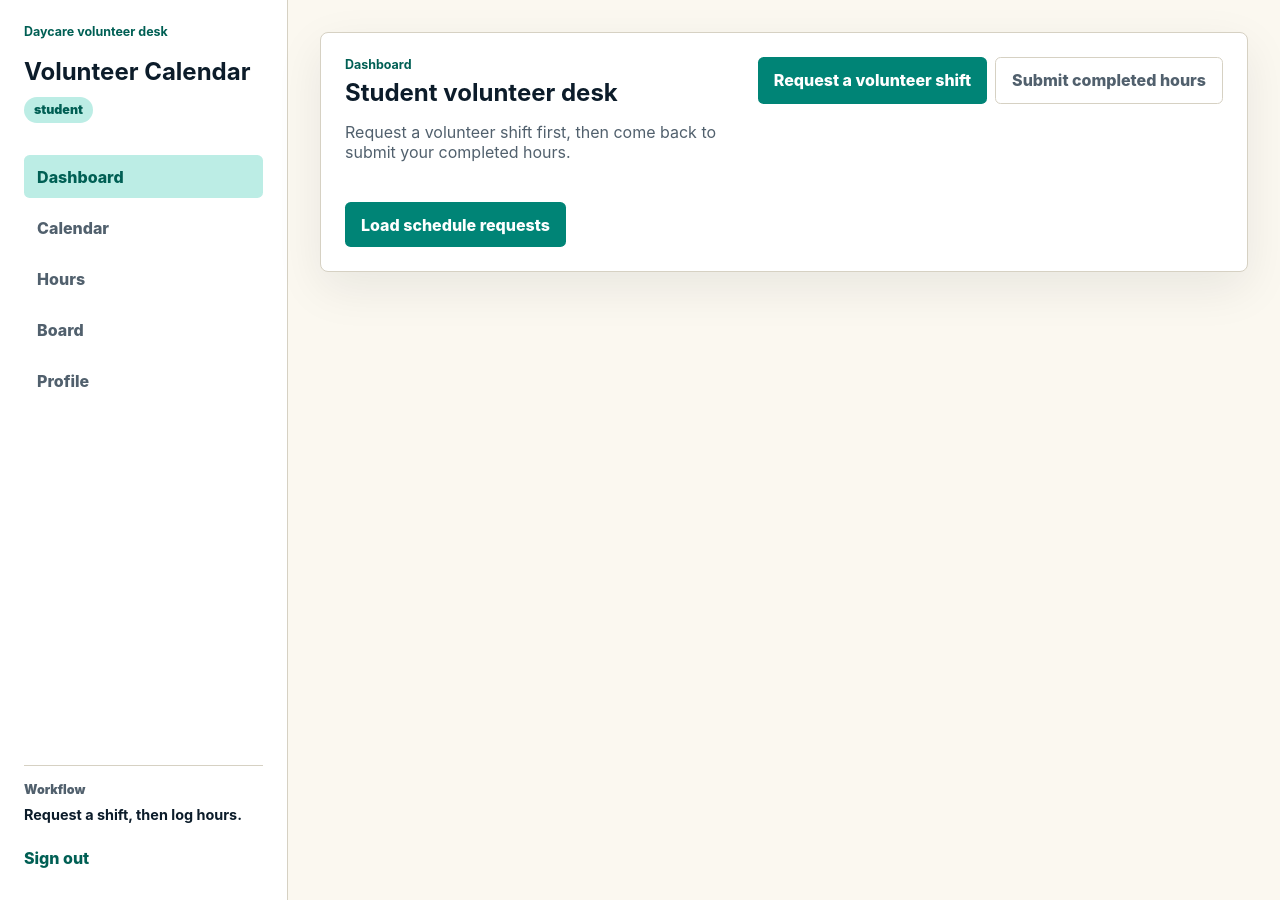
Test case: App › offers student workflow shortcuts from the dashboard
Expected: the heading "Student volunteer desk" is shown, [345,78,618,107]
What coordinates should you click on to do the following:
click the button "Request a volunteer shift"
I would click on:
 (872, 80)
Its box is [758,57,987,104].
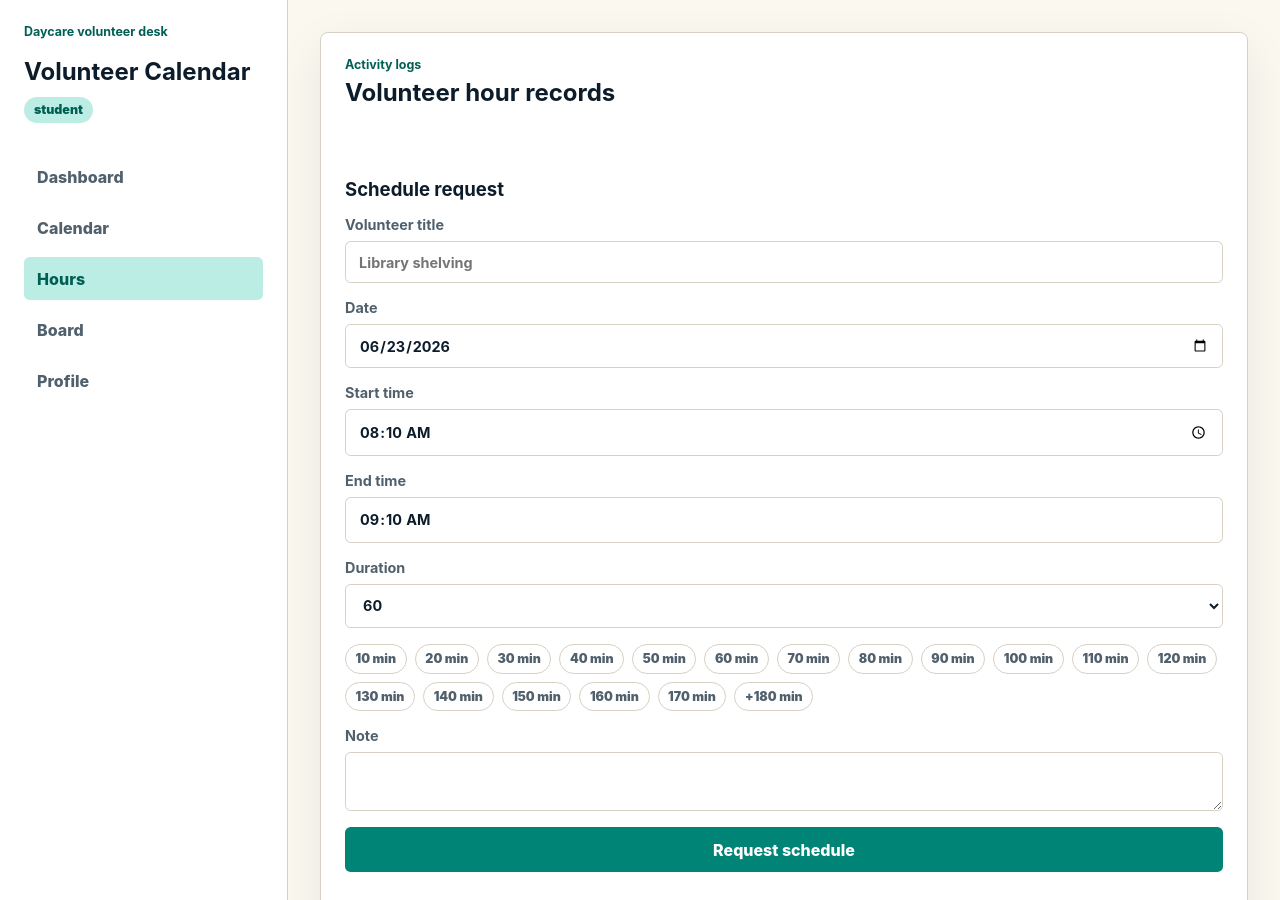
Expected: the heading "Schedule request" is shown, [345,178,504,200]
Expected: the heading "Volunteer hour records" is shown, [345,80,615,106]
Expected: the button "Request schedule" is shown, [345,827,1223,872]
